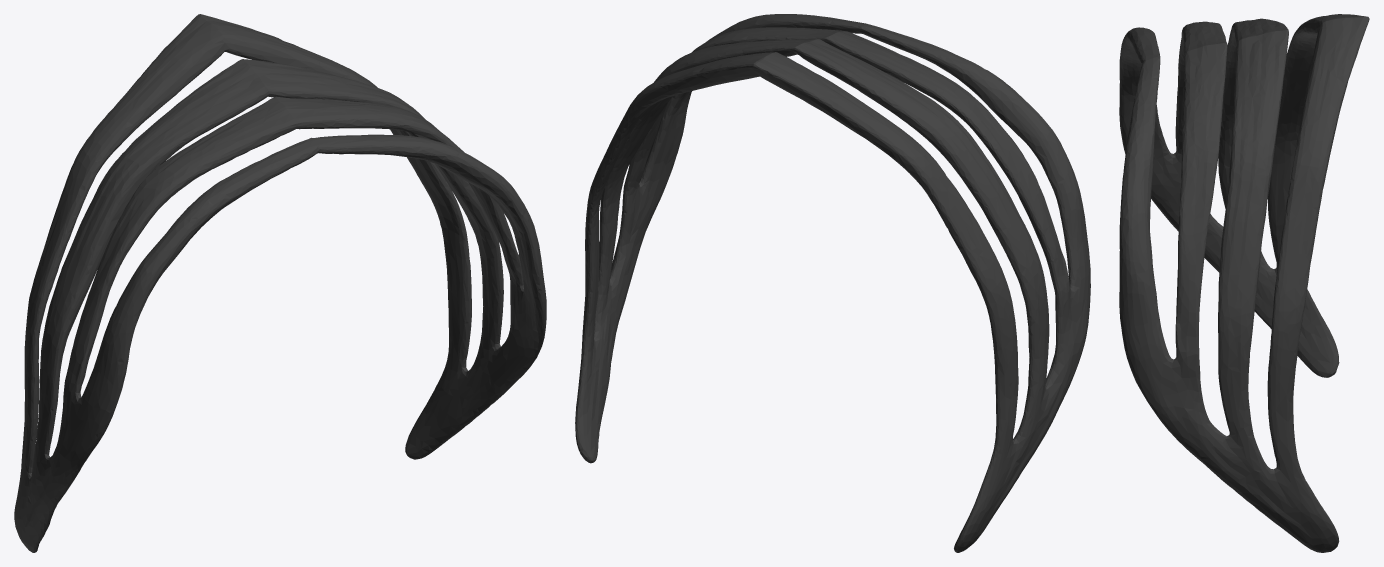
The model's file is m_sphincter_coli_profundus_intermediate.glb.
3 renders of one model, left to right at view 1: azimuth 30°, elevation 25°; view 2: azimuth 150°, elevation 25°; view 3: azimuth 270°, elevation 25°, orthographic. The views are drawn at different scales.
Parts seen in each view (by area): view 1: m_sphincter_coli_profundus_intermediate; view 2: m_sphincter_coli_profundus_intermediate; view 3: m_sphincter_coli_profundus_intermediate.
Boxes of the visible parts, box(x1,y1,x2,y2) form: m_sphincter_coli_profundus_intermediate: box(14, 14, 546, 552); m_sphincter_coli_profundus_intermediate: box(575, 14, 1090, 552); m_sphincter_coli_profundus_intermediate: box(1119, 14, 1369, 552).
Bounding box in the file's own units: 0.00295 × 0.00285 × 0.00144.
1 material, 1 textured.
